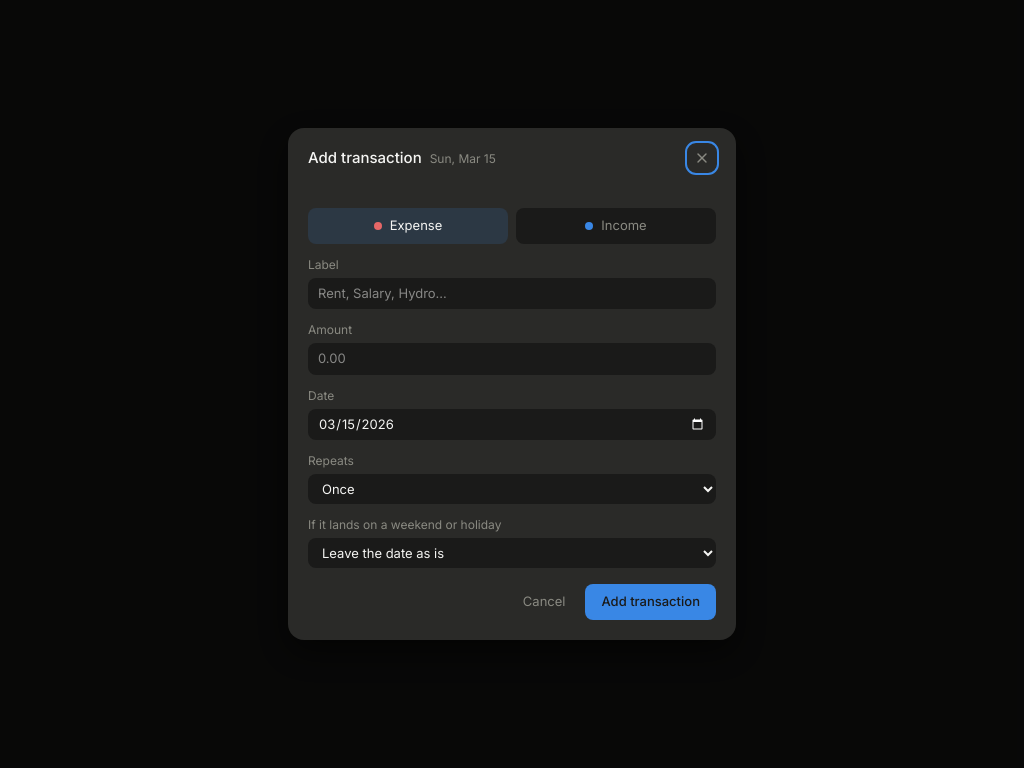
Test: validation › rejects a malformed amount
Type "Rent" into the field labelled "Label" at x=512, y=294, box [308,278,716,309]
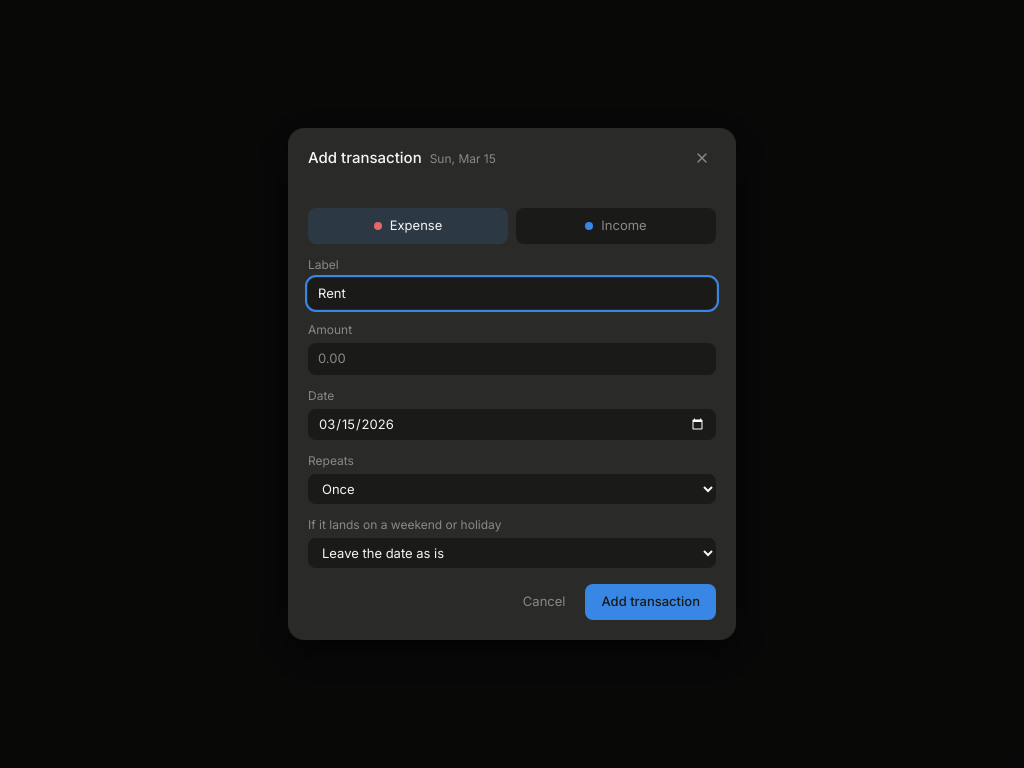
Type "abc" into the field labelled "Amount" at x=512, y=359, box [308,343,716,375]
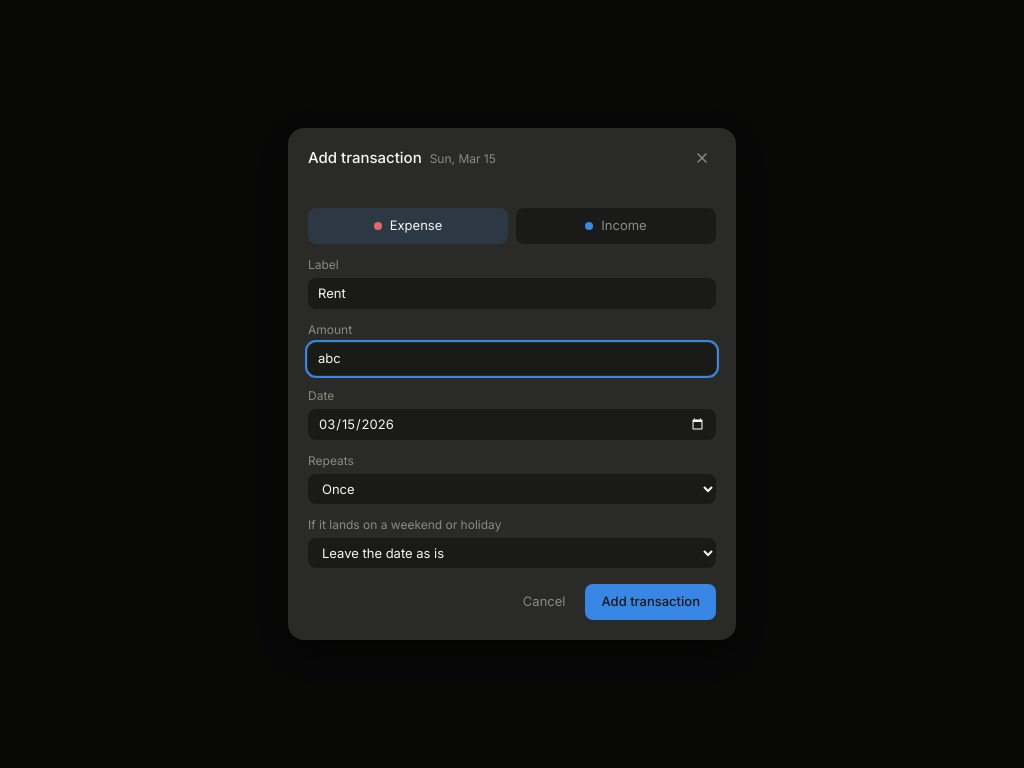
Click the button "Add transaction" at x=651, y=602, box [586,584,716,620]
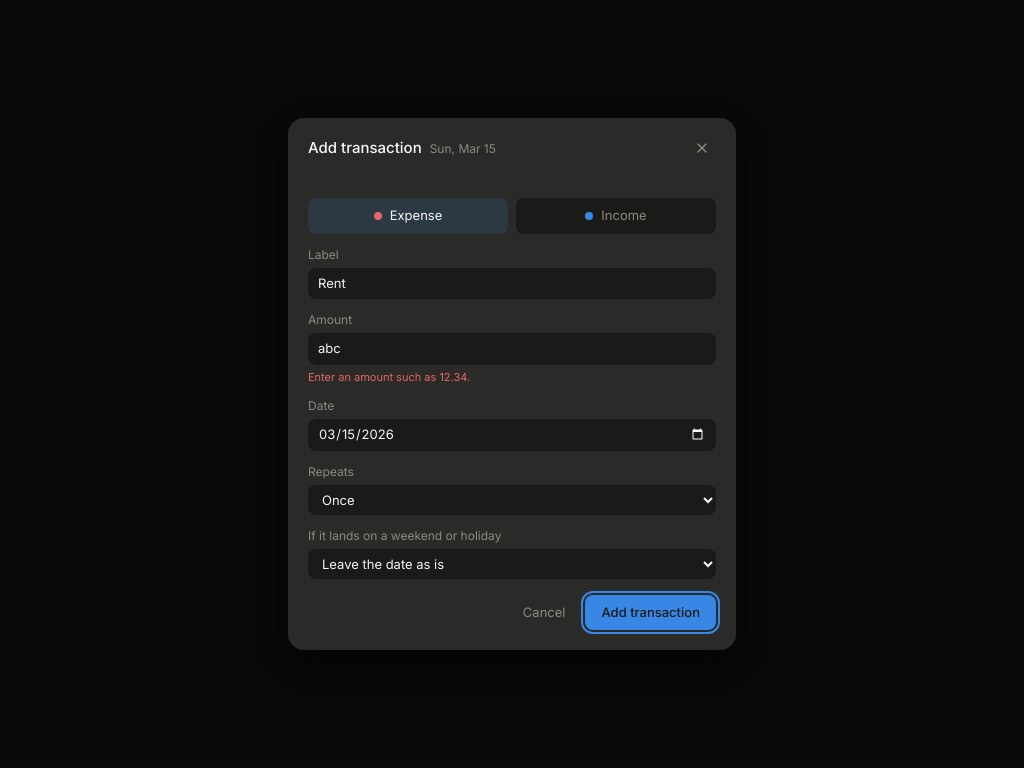
Expected: the text "Enter an amount such as 12.34." is shown, [308,370,470,384]
